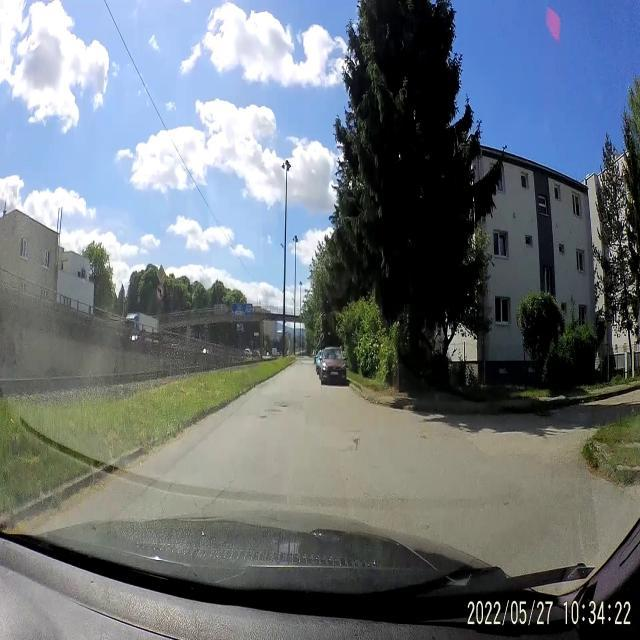Pothole: (415, 518, 433, 535), (346, 431, 359, 453), (257, 408, 275, 422), (274, 400, 291, 412), (418, 431, 429, 444), (302, 392, 312, 402)
